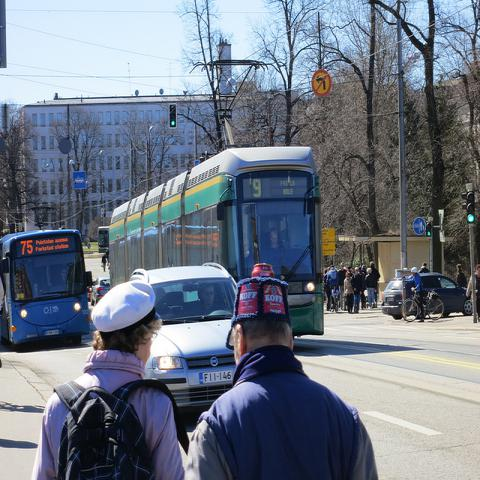bus: (109, 147, 324, 334), (0, 229, 95, 357)
car: (131, 260, 238, 417), (381, 270, 473, 319), (90, 276, 110, 306)
